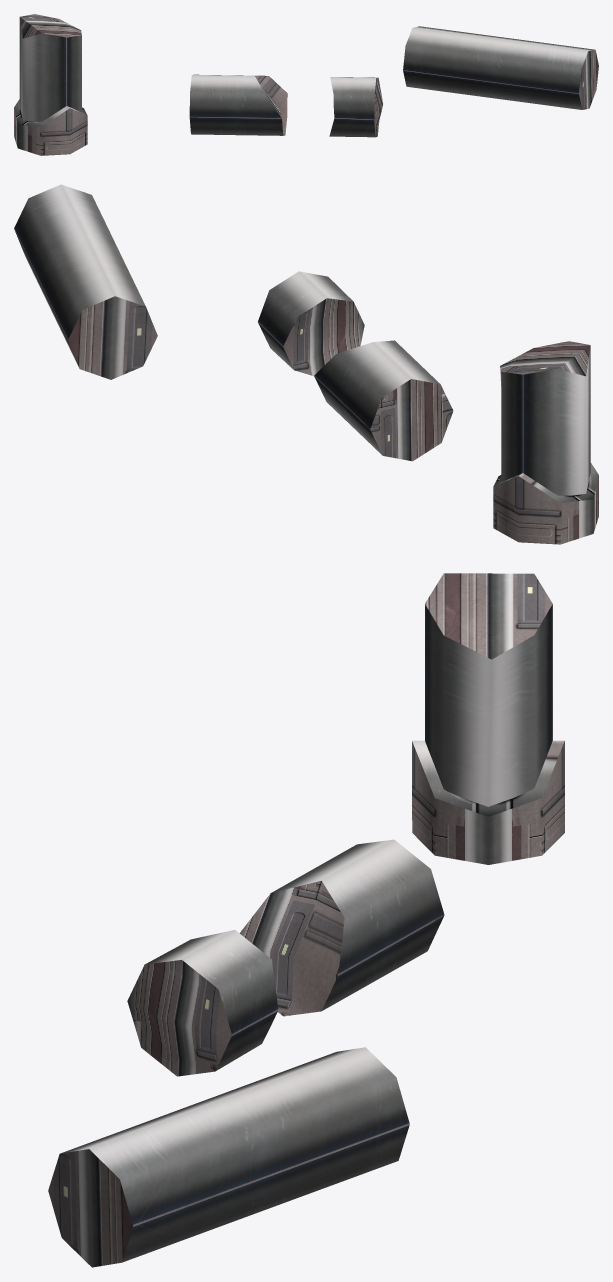
The model's file is Cor1_prop_piller_dest_1.fbx.
3 renders of one model, top to bottom at view 1: azimuth 30°, elevation 25°; view 2: azimuth 150°, elevation 25°; view 3: azimuth 270°, elevation 25°, orthographic. The views are drawn at different scales.
Visible parts, largest first — view 1: polymsh_detached54, polymsh_detached55, polymsh_detached, piller_1; view 2: polymsh_detached55, polymsh_detached54, polymsh_detached, piller_1; view 3: polymsh_detached54, polymsh_detached55, polymsh_detached, piller_1.
Part boxes in pixels (x1,y1,x2,y2): polymsh_detached54: (403, 26, 598, 109); polymsh_detached55: (189, 74, 383, 137); polymsh_detached: (19, 14, 81, 121); piller_1: (14, 99, 87, 155); polymsh_detached55: (258, 271, 453, 461); polymsh_detached54: (14, 184, 157, 379); polymsh_detached: (500, 341, 590, 495); piller_1: (493, 462, 598, 544); polymsh_detached54: (48, 1047, 409, 1267); polymsh_detached55: (127, 839, 444, 1076); polymsh_detached: (425, 573, 552, 806); piller_1: (412, 740, 564, 864).
Size of what is drawn, in the model's own units: 22.35 by 5.4 by 10.16.
